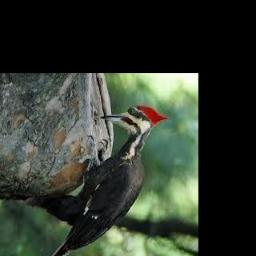Woodpecker: (46, 106, 169, 256)
